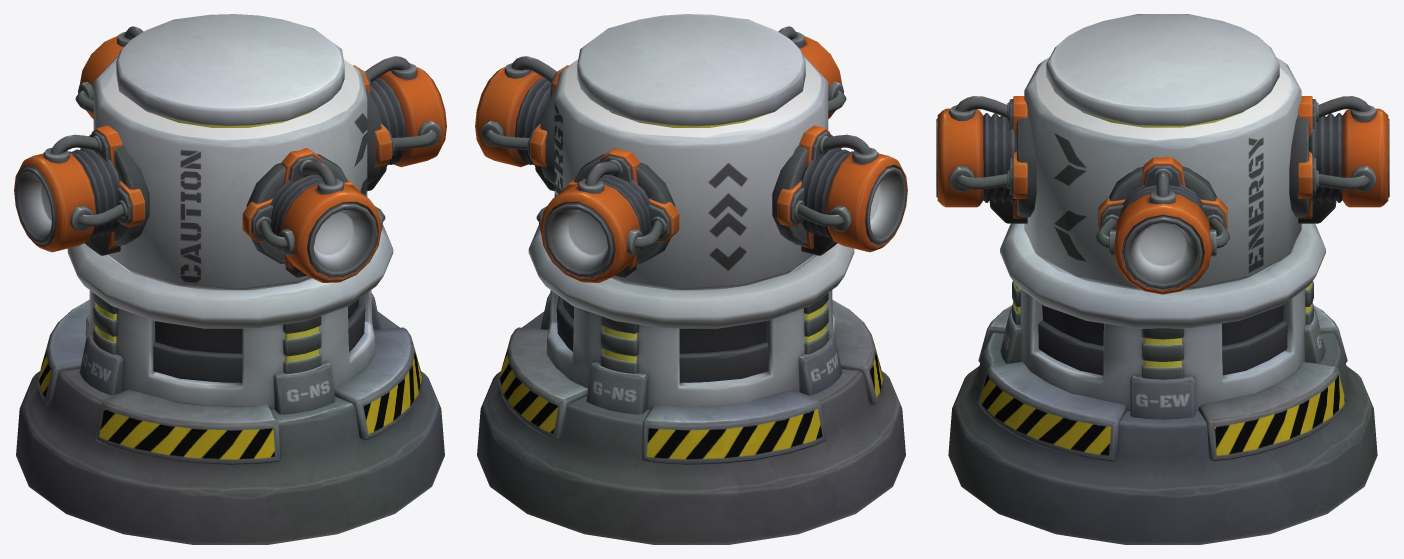
The model's file is SM_TowerDefense_SciFi_Lv3.fbx.
3 views of the same model, side by side, from view 1: azimuth 30°, elevation 25°; view 2: azimuth 150°, elevation 25°; view 3: azimuth 270°, elevation 25° (orthographic).
Parts seen in each view (by area): view 1: SM_TowerDefense_SciFi_Lv3; view 2: SM_TowerDefense_SciFi_Lv3; view 3: SM_TowerDefense_SciFi_Lv3.
Part boxes in pixels (box(x1,y1,x2,y2)): SM_TowerDefense_SciFi_Lv3: box(14, 14, 446, 544); SM_TowerDefense_SciFi_Lv3: box(475, 14, 907, 544); SM_TowerDefense_SciFi_Lv3: box(936, 14, 1389, 544).
Bounding box in the file's own units: 1177 × 1131 × 1177.
